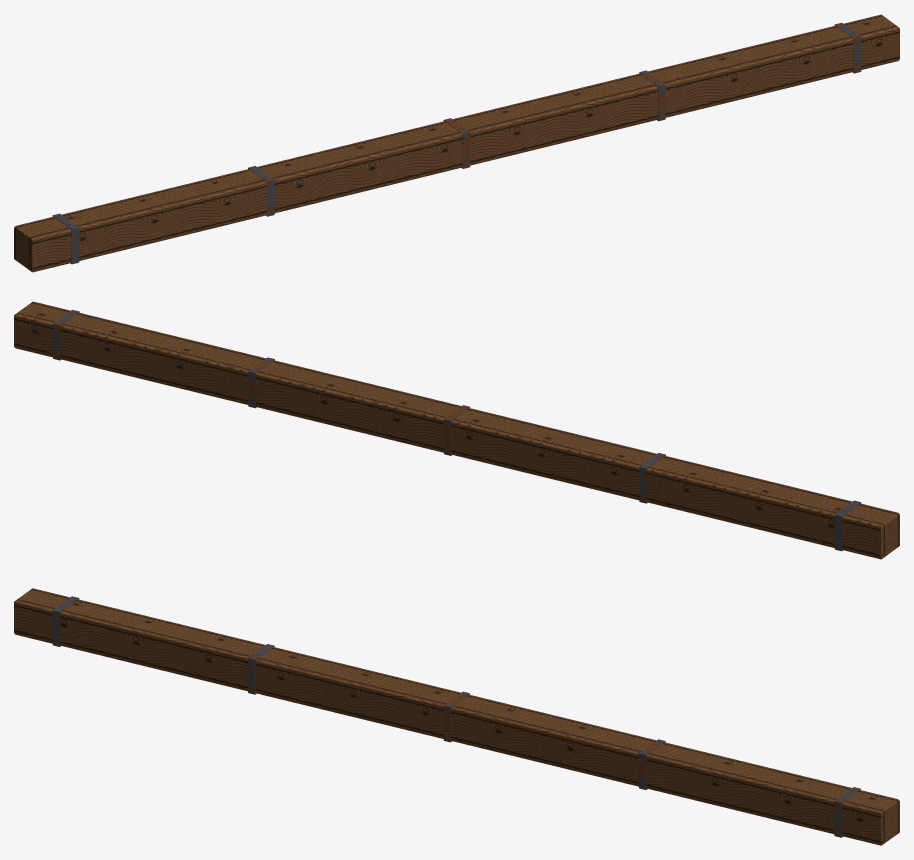
Rendered from Edge_Beam.glb.
3 views of the same model, one above another, from view 1: azimuth 30°, elevation 25°; view 2: azimuth 150°, elevation 25°; view 3: azimuth 330°, elevation 25° (orthographic).
Parts seen in each view (by area): view 1: Edge_Beam; view 2: Edge_Beam; view 3: Edge_Beam.
Boxes of the visible parts, box(x1,y1,x2,y2) form: Edge_Beam: box(14, 14, 899, 272); Edge_Beam: box(14, 301, 899, 559); Edge_Beam: box(14, 588, 899, 845).
Bounding box in the file's own units: 12 × 0.468 × 0.468.
Materials: 2 (2 with a texture image).
